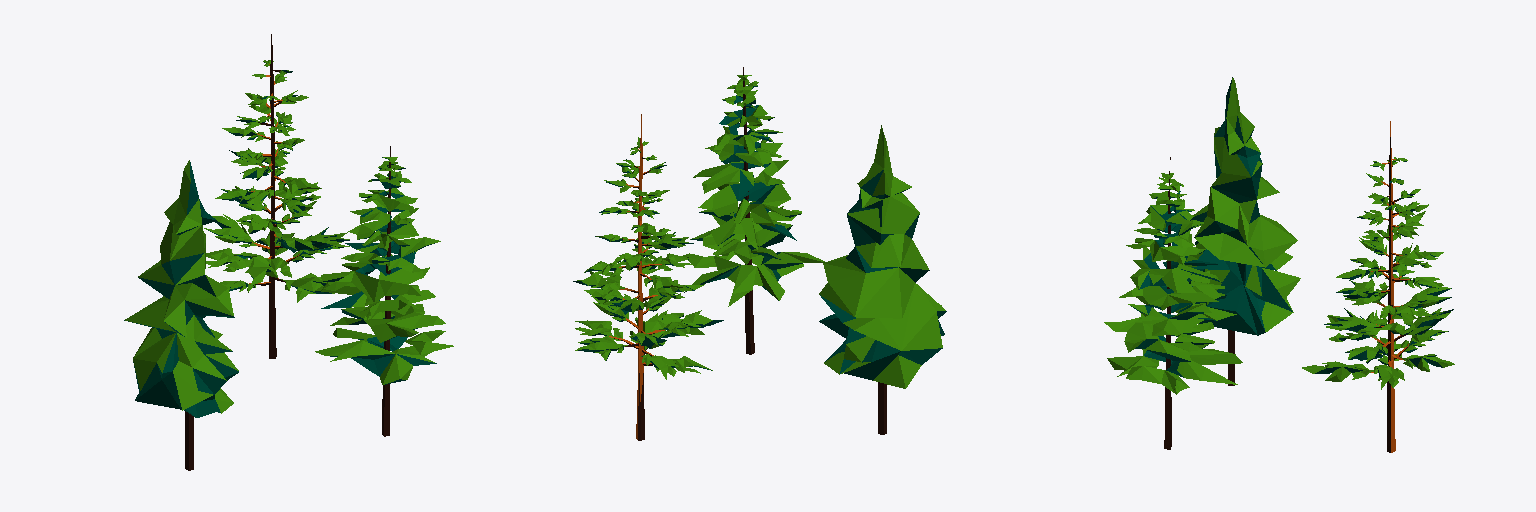
3 renders of one model, left to right at view 1: azimuth 30°, elevation 25°; view 2: azimuth 150°, elevation 25°; view 3: azimuth 270°, elevation 25°, orthographic.
Visible parts, largest first — view 1: group[number redacted], group[number redacted], group[number redacted]; view 2: group[number redacted], group[number redacted], group[number redacted]; view 3: group[number redacted], group[number redacted], group[number redacted].
Boxes of the visible parts, <box> form: group[number redacted]: <box>124,160,238,470</box>; group[number redacted]: <box>315,146,453,436</box>; group[number redacted]: <box>204,34,349,358</box>; group[number redacted]: <box>819,125,946,434</box>; group[number redacted]: <box>683,67,824,354</box>; group[number redacted]: <box>573,114,723,440</box>; group[number redacted]: <box>1163,77,1300,385</box>; group[number redacted]: <box>1104,157,1242,449</box>; group[number redacted]: <box>1302,121,1454,452</box>.
Bounding box in the file's own units: 4.19 × 4.78 × 4.4.